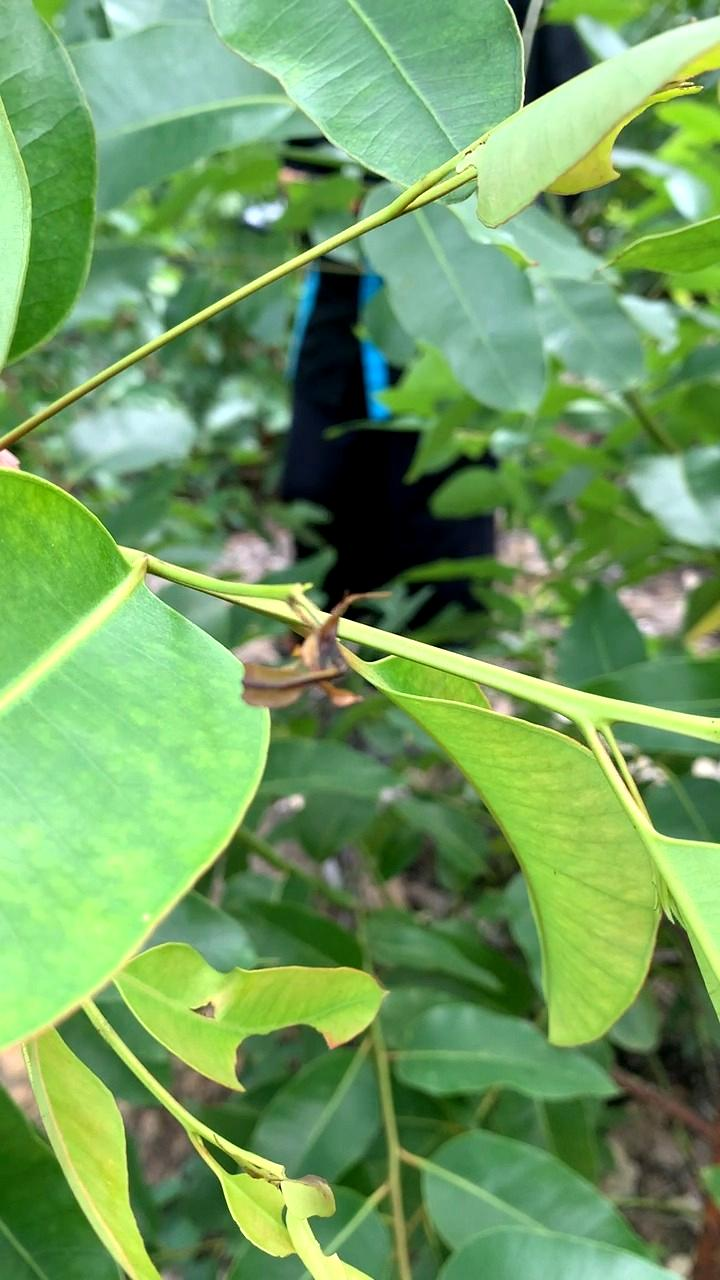Helopeltis-Withered Sprout: (243, 600, 369, 717)
